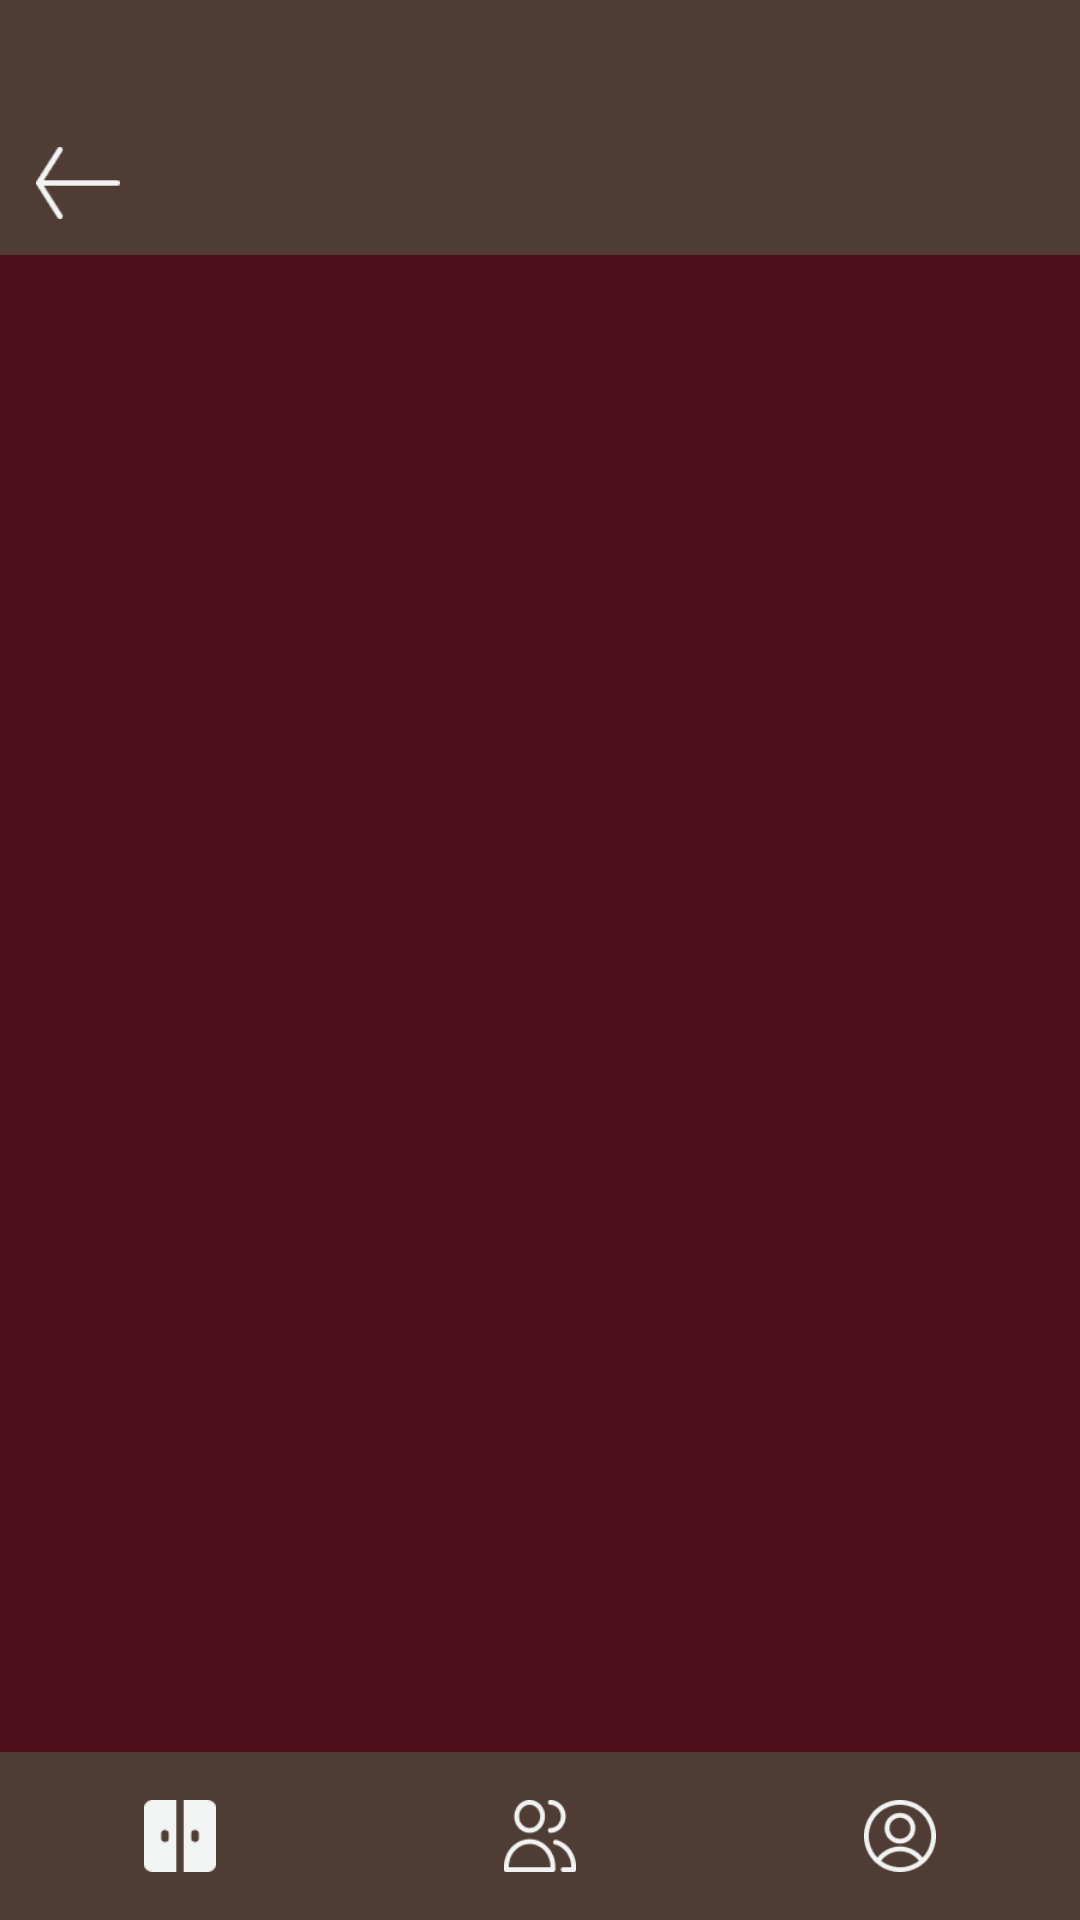

Screen size 1080w x 1920h. Icon name, then its center in pixels as (x,y):
Back: (78,183)
